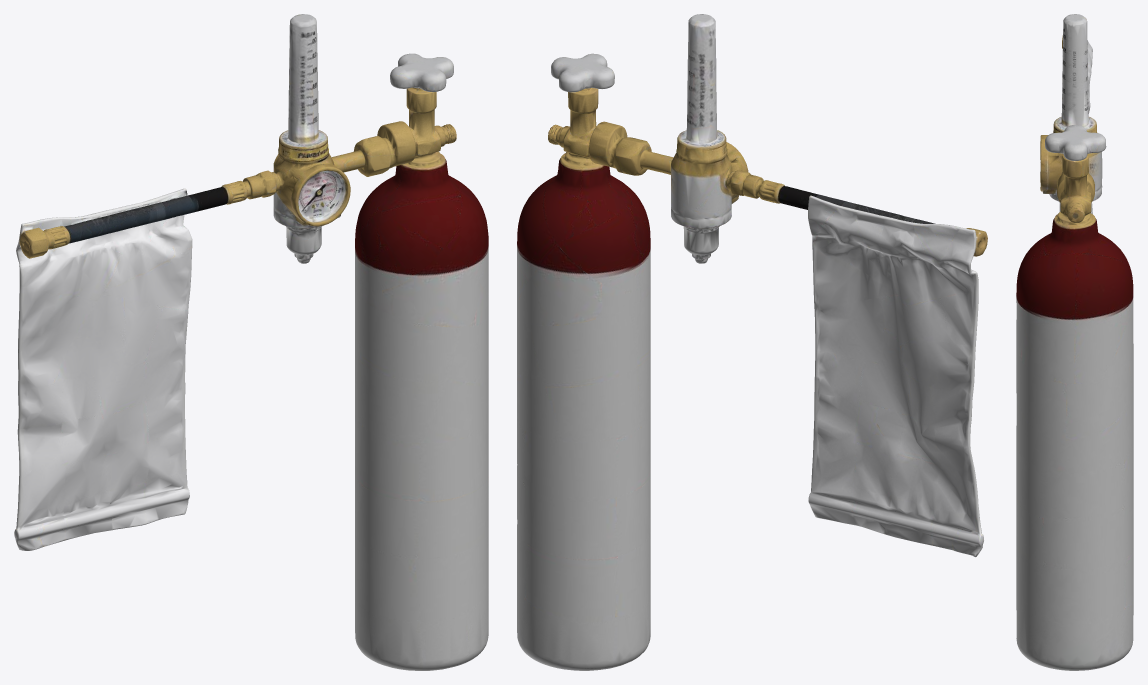
Rendered from outlet.glb.
3 renders of one model, left to right at view 1: azimuth 30°, elevation 25°; view 2: azimuth 150°, elevation 25°; view 3: azimuth 270°, elevation 25°, orthographic. The views are drawn at different scales.
Bounding box in the file's own units: 1.39 × 1.9 × 0.3473.
1 material, 1 textured.
